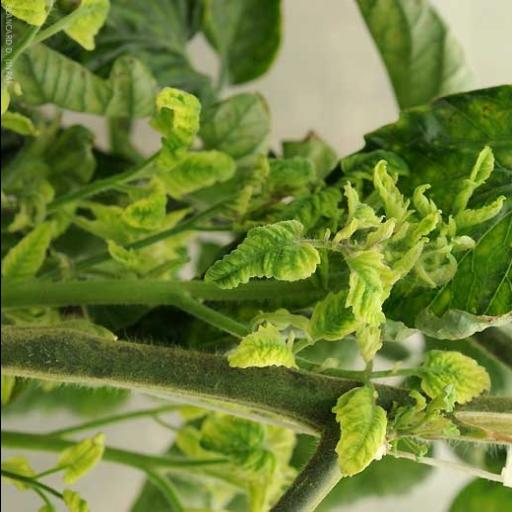disease_tomato: (335, 133, 506, 330), (199, 220, 334, 303), (198, 320, 319, 380), (333, 386, 397, 478), (330, 258, 387, 358), (414, 350, 496, 412), (143, 150, 240, 196), (0, 213, 62, 279), (372, 158, 414, 224)
